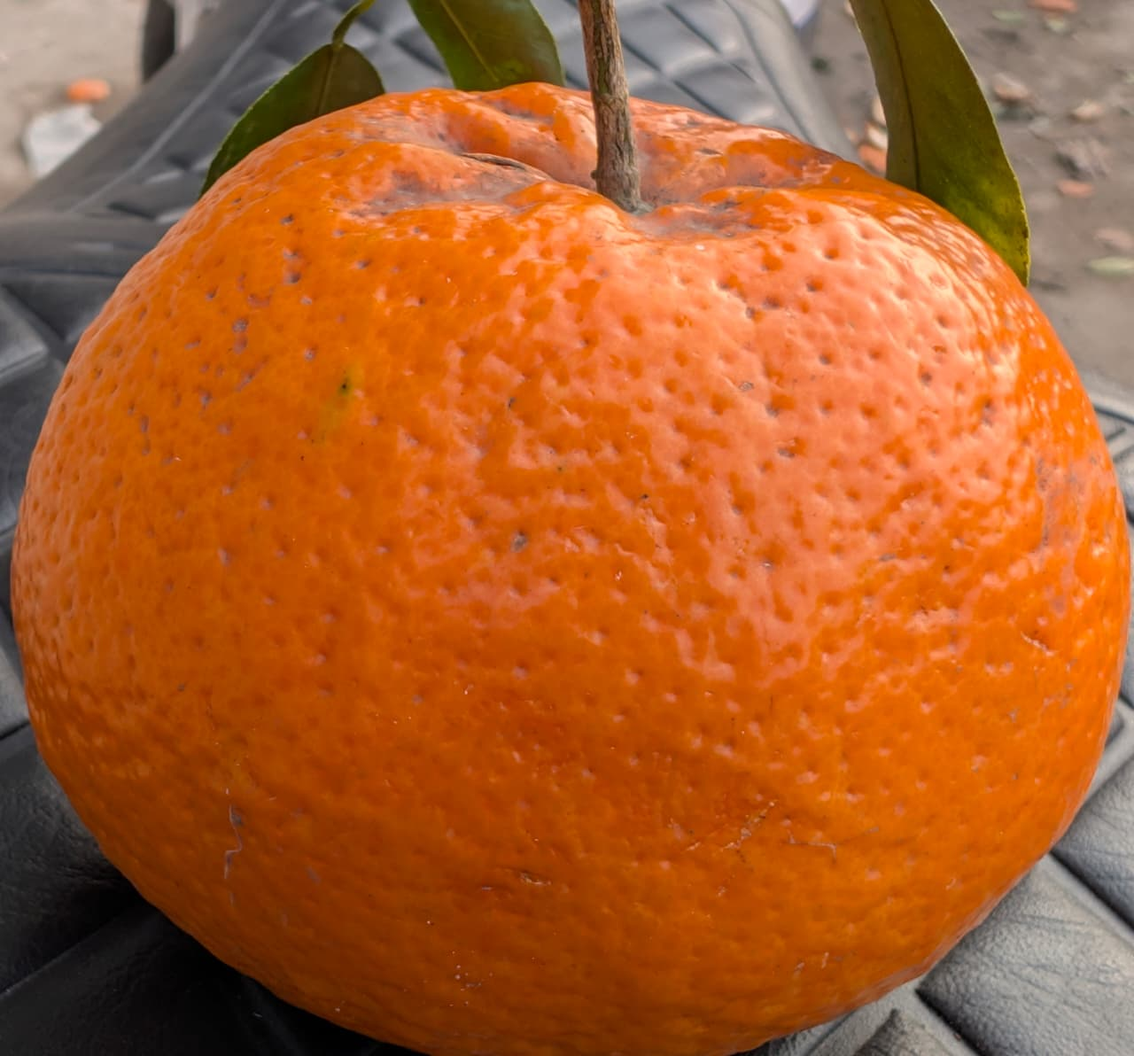orange: (276, 308, 983, 951)
